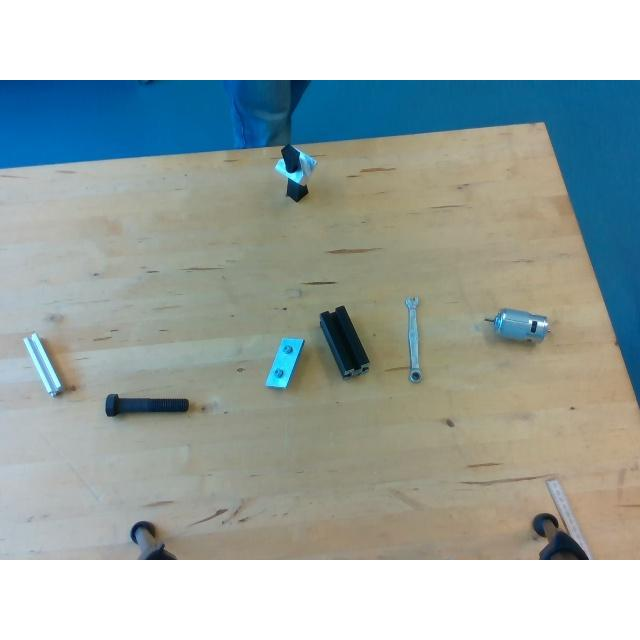F20_20_G: (23, 333, 63, 395)
M20_100: (104, 394, 188, 414)
Motor2: (484, 308, 548, 342)
S40_40_B: (320, 306, 368, 378)
Wrench: (404, 294, 428, 386)
